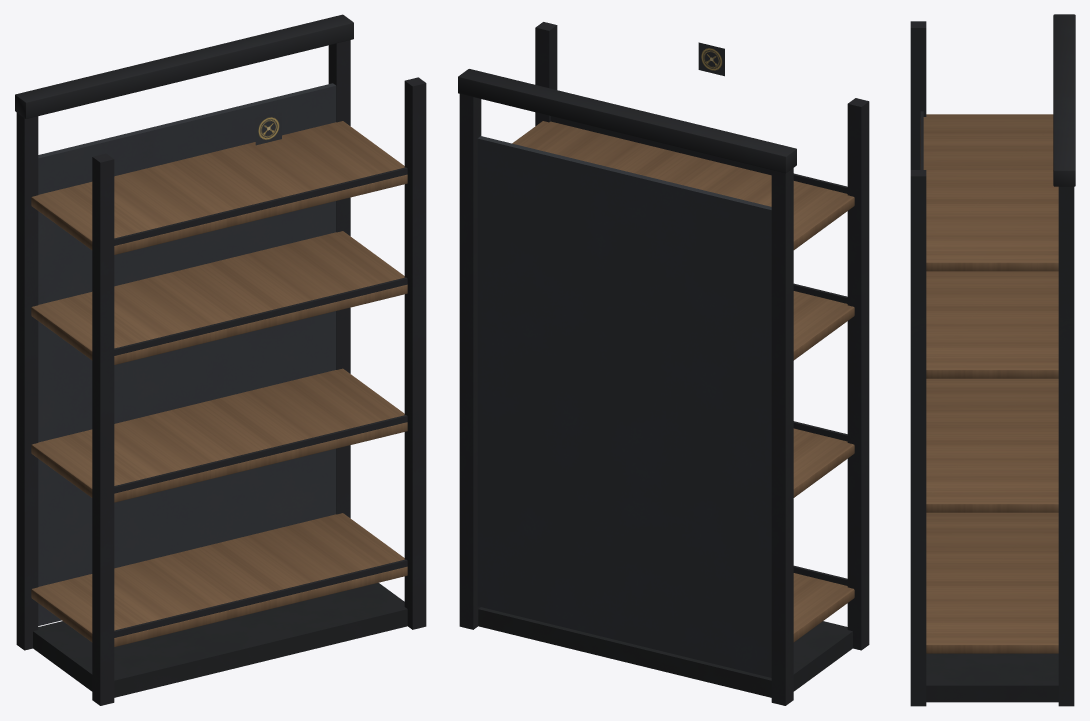
File: snack_shelf.glb
3 renders of one model, left to right at view 1: azimuth 30°, elevation 25°; view 2: azimuth 150°, elevation 25°; view 3: azimuth 270°, elevation 25°, orthographic. The views are drawn at different scales.
Parts seen in each view (by area): view 1: Back_Panel, Shelf_02, Shelf_01, Shelf_03, Shelf_04, Kick, Frame_Post_LF, Frame_Post_RF, Frame_Post_LB, Frame_Crown, Frame_Post_RB, Shelf_Rail_01 (+4 smaller); view 2: Back_Panel, Frame_Post_LB, Frame_Post_LF, Shelf_04, Frame_Post_RB, Frame_Crown, Kick, Shelf_01, Shelf_03, Shelf_02, Shelf_Rail_04, Frame_Post_RF (+1 smaller); view 3: Shelf_04, Shelf_01, Shelf_02, Shelf_03, Frame_Post_RF, Frame_Post_RB, Kick, Frame_Crown, Frame_Post_LF.
Part boxes in pixels (left/top/right/bottom): Back_Panel: left=38, top=83, right=336, bottom=625; Shelf_02: left=31, top=368, right=407, bottom=502; Shelf_01: left=31, top=513, right=407, bottom=646; Shelf_03: left=31, top=231, right=407, bottom=364; Shelf_04: left=31, top=121, right=407, bottom=254; Kick: left=33, top=583, right=407, bottom=697; Frame_Post_LF: left=92, top=153, right=114, bottom=705; Frame_Post_RF: left=404, top=77, right=426, bottom=629; Frame_Post_LB: left=16, top=113, right=38, bottom=650; Frame_Crown: left=15, top=14, right=353, bottom=118; Frame_Post_RB: left=328, top=40, right=350, bottom=518; Shelf_Rail_01: left=114, top=559, right=407, bottom=637; Back_Panel: left=477, top=136, right=771, bottom=677; Frame_Post_LB: left=771, top=168, right=793, bottom=705; Frame_Post_LF: left=847, top=98, right=869, bottom=650; Shelf_04: left=512, top=121, right=854, bottom=249; Frame_Post_RB: left=459, top=94, right=481, bottom=629; Frame_Crown: left=458, top=69, right=796, bottom=173; Kick: left=478, top=607, right=852, bottom=697; Shelf_01: left=793, top=573, right=854, bottom=642; Shelf_03: left=793, top=291, right=854, bottom=360; Shelf_02: left=793, top=428, right=854, bottom=497; Shelf_Rail_04: left=550, top=116, right=847, bottom=193; Frame_Post_RF: left=535, top=22, right=557, bottom=125; Shelf_04: left=920, top=114, right=1058, bottom=271; Shelf_01: left=926, top=512, right=1058, bottom=653; Shelf_02: left=926, top=378, right=1058, bottom=512; Shelf_03: left=926, top=271, right=1058, bottom=378; Frame_Post_RF: left=910, top=170, right=926, bottom=706; Frame_Post_RB: left=1058, top=186, right=1074, bottom=706; Kick: left=926, top=653, right=1058, bottom=702; Frame_Crown: left=1053, top=14, right=1075, bottom=186; Frame_Post_LF: left=910, top=21, right=926, bottom=169.
Size of the model in its own units: 1 by 1.62 by 0.474.
Materials: 6 (5 with a texture image).
